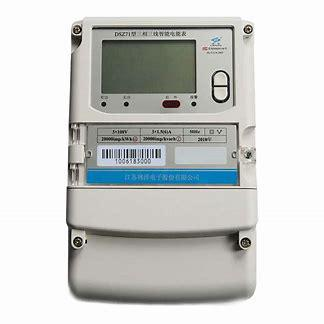digital: (67, 16, 257, 232)
